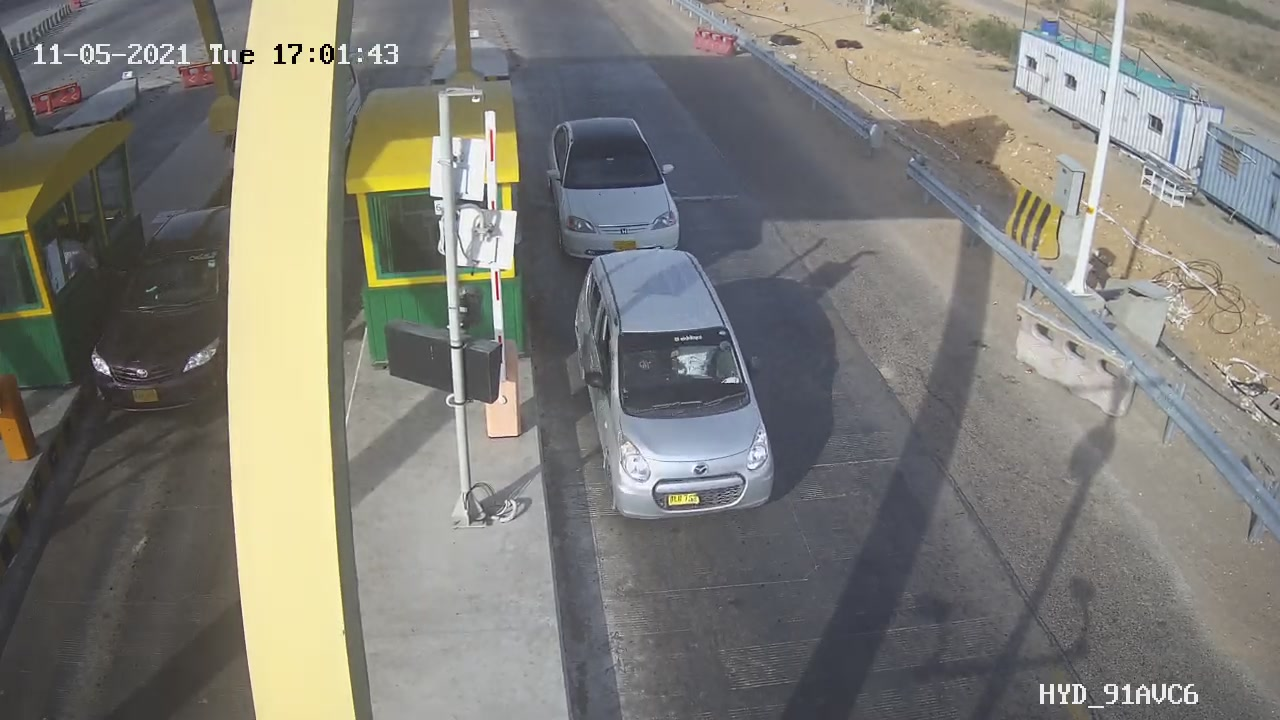F1: (552, 235, 794, 544), (529, 99, 718, 279)
